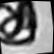correct: (0, 0, 38, 45)
